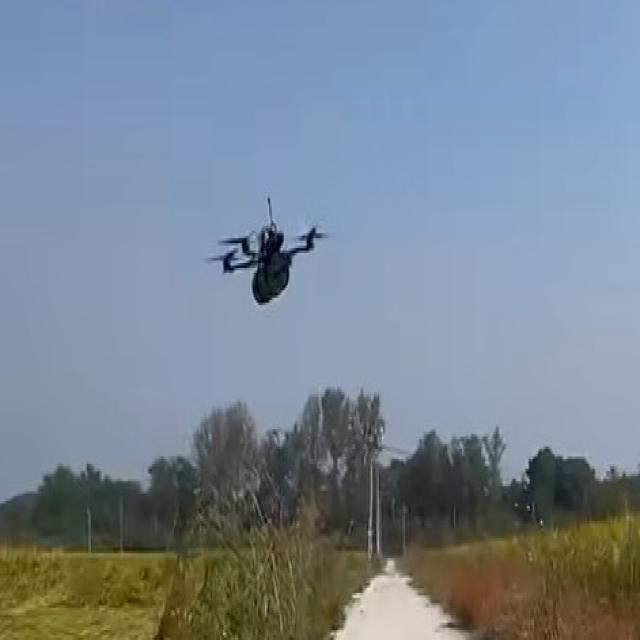drone: (200, 194, 338, 312)
